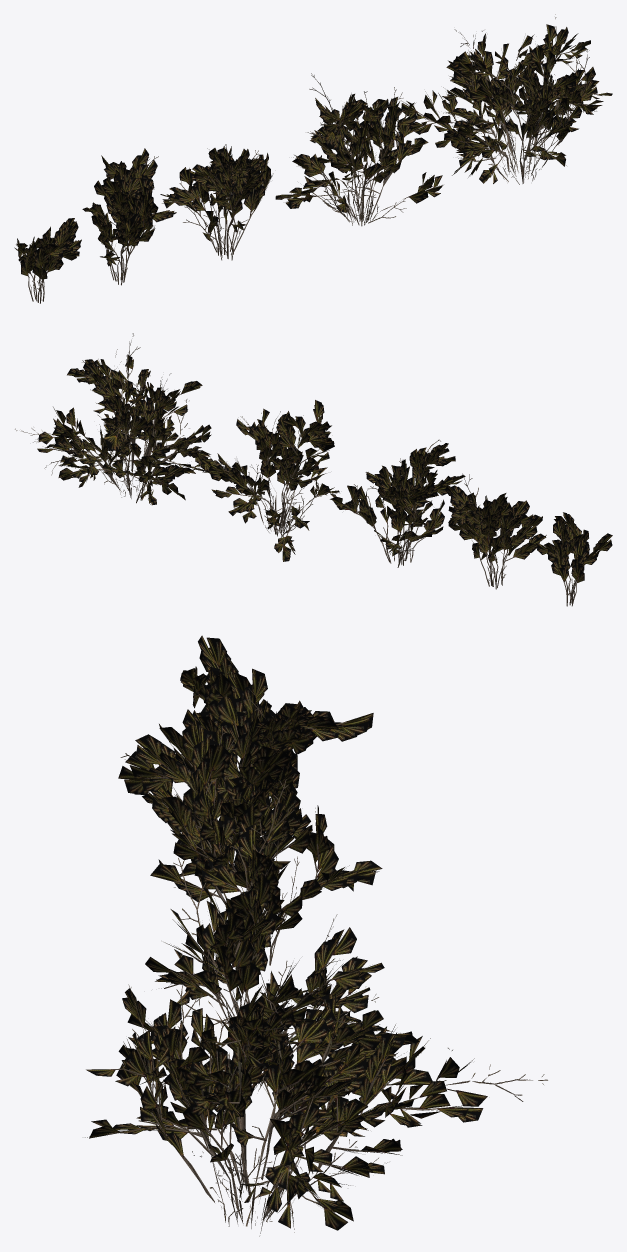
The model's file is wild_rooibos_bush.gltf.
The picture shows the model from 3 angles, top to bottom: view 1: azimuth 30°, elevation 25°; view 2: azimuth 150°, elevation 25°; view 3: azimuth 270°, elevation 25°; orthographic projection. The views are drawn at different scales.
Visible parts, largest first — view 1: wild_rooibos_bush_a, wild_rooibos_bush_b, wild_rooibos_bush_c, wild_rooibos_bush_d, wild_rooibos_bush_e; view 2: wild_rooibos_bush_a, wild_rooibos_bush_b, wild_rooibos_bush_c, wild_rooibos_bush_d, wild_rooibos_bush_e; view 3: wild_rooibos_bush_a, wild_rooibos_bush_b, wild_rooibos_bush_c, wild_rooibos_bush_d, wild_rooibos_bush_e.
Boxes of the visible parts, x1,y1,x2,y2 form: wild_rooibos_bush_a: (399, 14, 612, 184); wild_rooibos_bush_b: (275, 73, 443, 226); wild_rooibos_bush_c: (160, 144, 273, 260); wild_rooibos_bush_d: (82, 148, 176, 285); wild_rooibos_bush_e: (14, 218, 81, 303); wild_rooibos_bush_a: (15, 333, 223, 505); wild_rooibos_bush_b: (202, 400, 339, 561); wild_rooibos_bush_c: (330, 439, 465, 567); wild_rooibos_bush_d: (445, 473, 546, 589); wild_rooibos_bush_e: (537, 512, 612, 606); wild_rooibos_bush_a: (85, 967, 547, 1236); wild_rooibos_bush_b: (127, 779, 391, 1091); wild_rooibos_bush_c: (118, 719, 382, 970); wild_rooibos_bush_d: (159, 668, 373, 865); wild_rooibos_bush_e: (180, 635, 271, 764).
Size of the model in its own units: 2.28 by 0.5413 by 0.8389.
3 materials, 3 textured.
